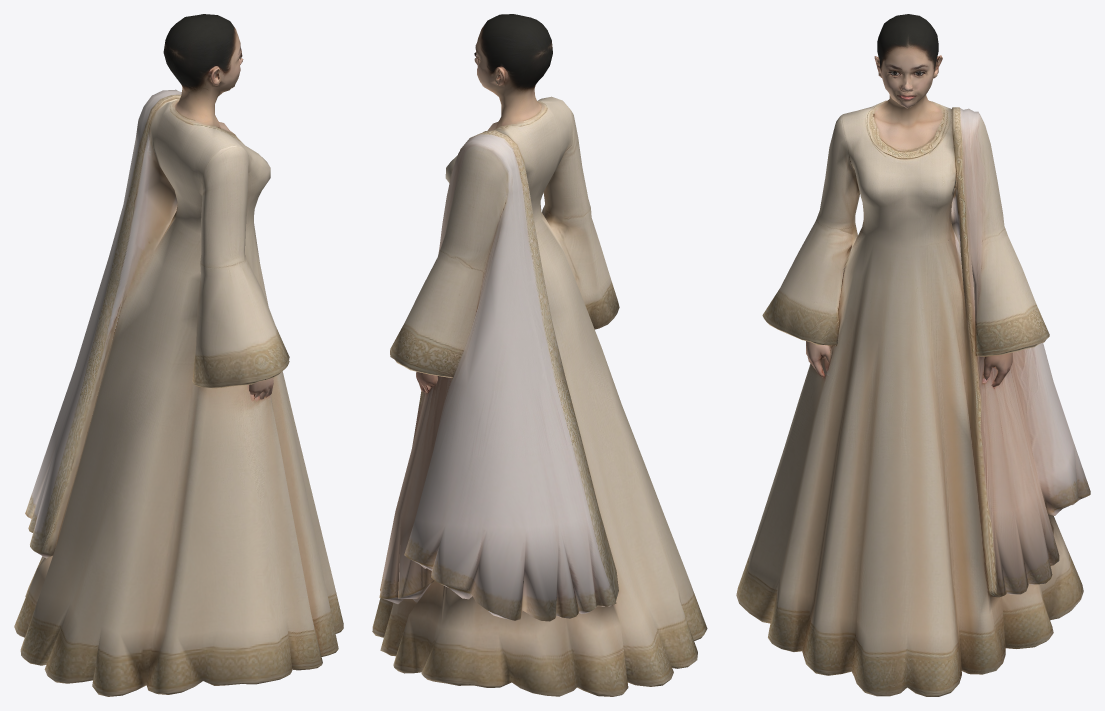
File: ethnic gown 3d model (1).glb
3 renders of one model, left to right at view 1: azimuth 30°, elevation 25°; view 2: azimuth 150°, elevation 25°; view 3: azimuth 270°, elevation 25°, orthographic. The views are drawn at different scales.
Visible parts, largest first — view 1: tripo_node_86eb669c-7465-4a1e-a384-90e5ec4881af; view 2: tripo_node_86eb669c-7465-4a1e-a384-90e5ec4881af; view 3: tripo_node_86eb669c-7465-4a1e-a384-90e5ec4881af.
Part boxes in pixels (box(x1,y1,x2,y2)): tripo_node_86eb669c-7465-4a1e-a384-90e5ec4881af: box(14, 14, 343, 696); tripo_node_86eb669c-7465-4a1e-a384-90e5ec4881af: box(372, 14, 707, 696); tripo_node_86eb669c-7465-4a1e-a384-90e5ec4881af: box(736, 14, 1090, 696).
Bounding box in the file's own units: 0.4707 × 0.998 × 0.5059.
1 material, 1 textured.
